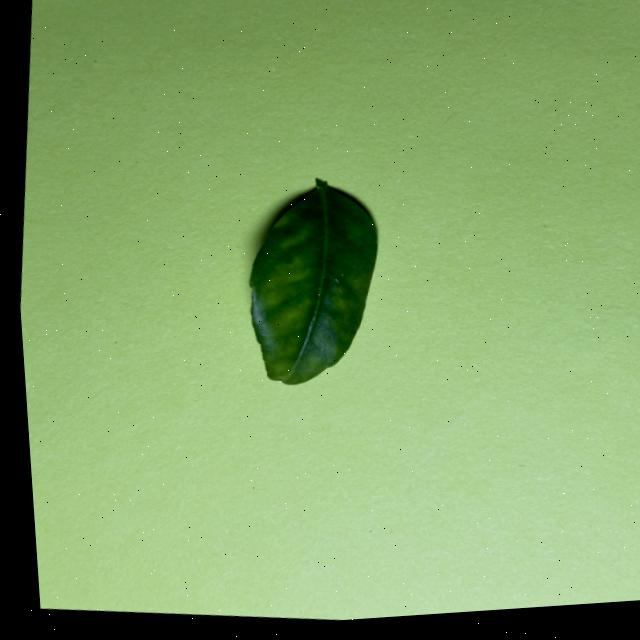greening: (249, 179, 377, 384)
